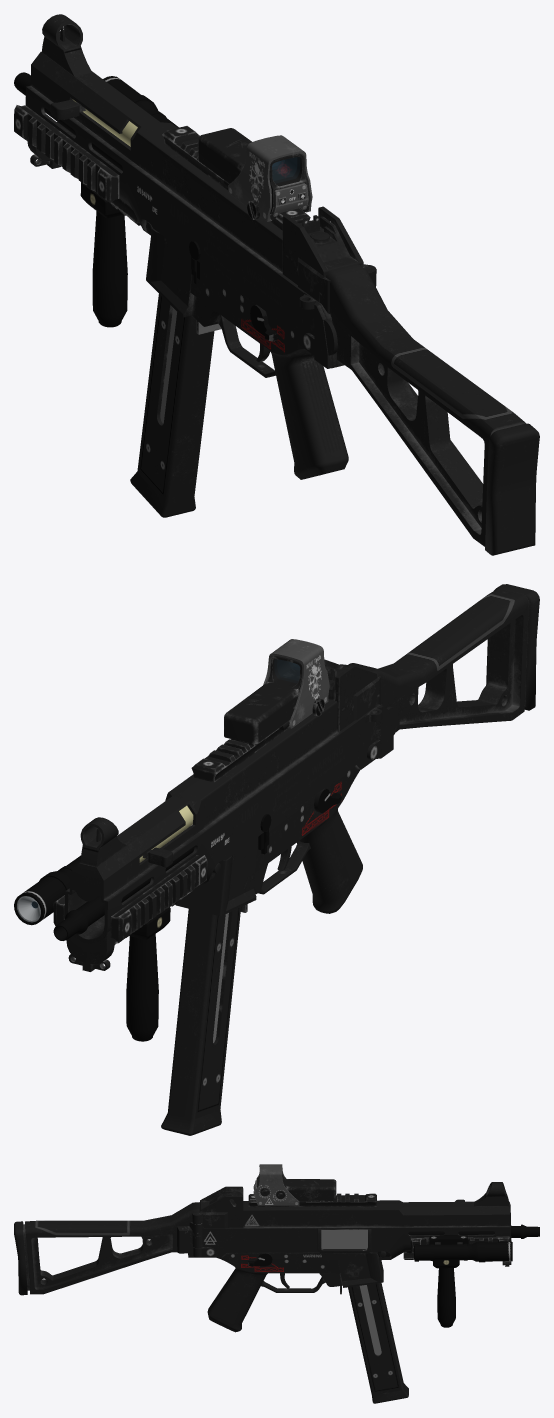
Rendered from smg_ump45.glb.
3 views of the same model, one above another, from view 1: azimuth 30°, elevation 25°; view 2: azimuth 150°, elevation 25°; view 3: azimuth 270°, elevation 25° (orthographic). The views are drawn at different scales.
Visible parts, largest first — view 1: item; view 2: item; view 3: item.
Boxes of the visible parts, x1,y1,x2,y2 form: item: (14, 14, 539, 555); item: (14, 584, 539, 1135); item: (14, 1164, 539, 1403).
Size of the model in its own units: 0.0969 by 0.3364 by 0.69.
3 materials, 3 textured.
